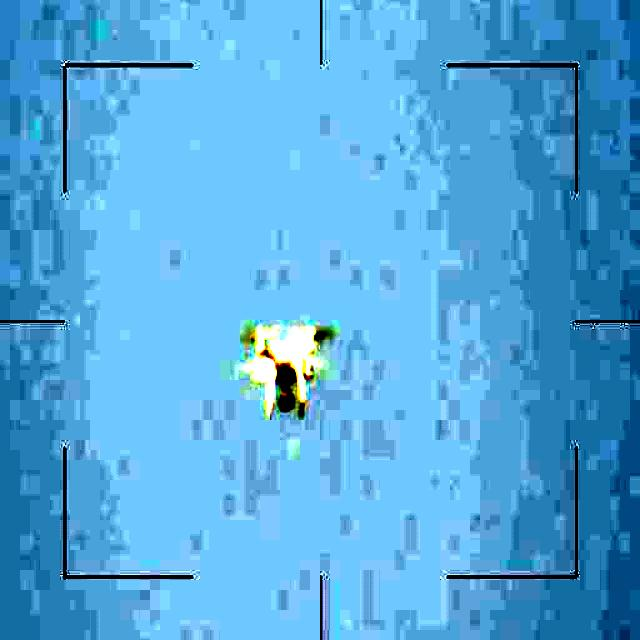bird: (238, 328, 330, 414)
